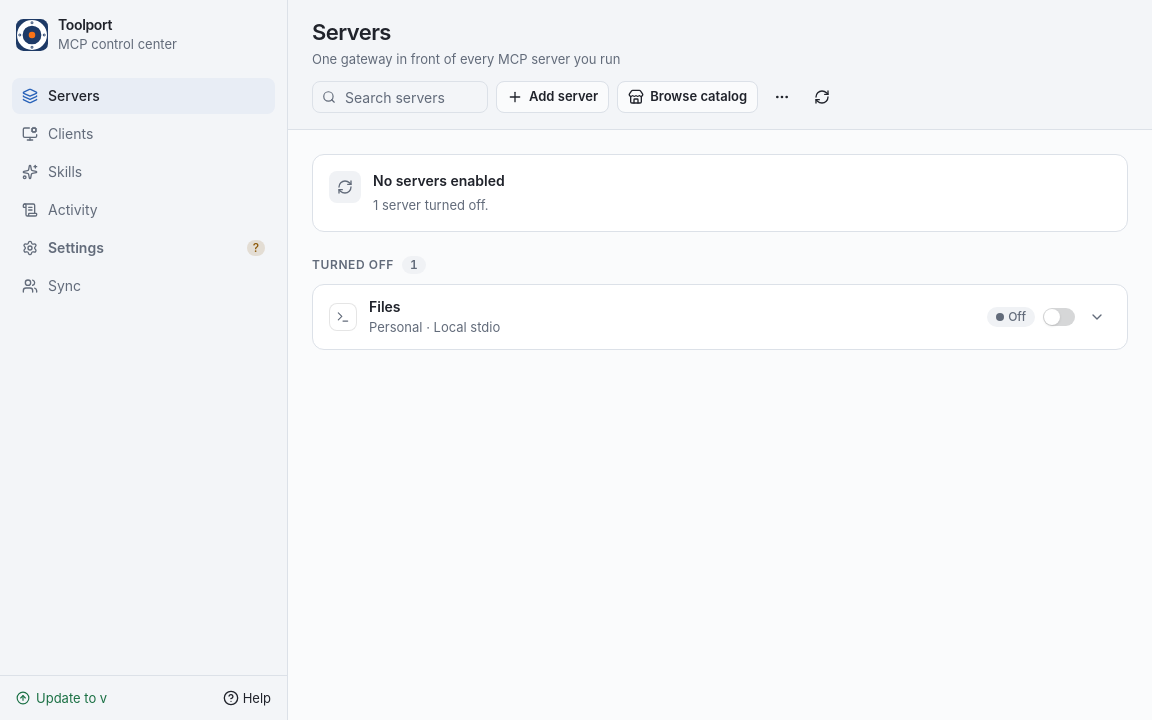
Test: pushed detail navigation › refreshes a selected server and gives a safe missing state after removal
Click the button named "Show Files details" at (1097, 317), box x1=1083 y1=303 x2=1111 y2=331
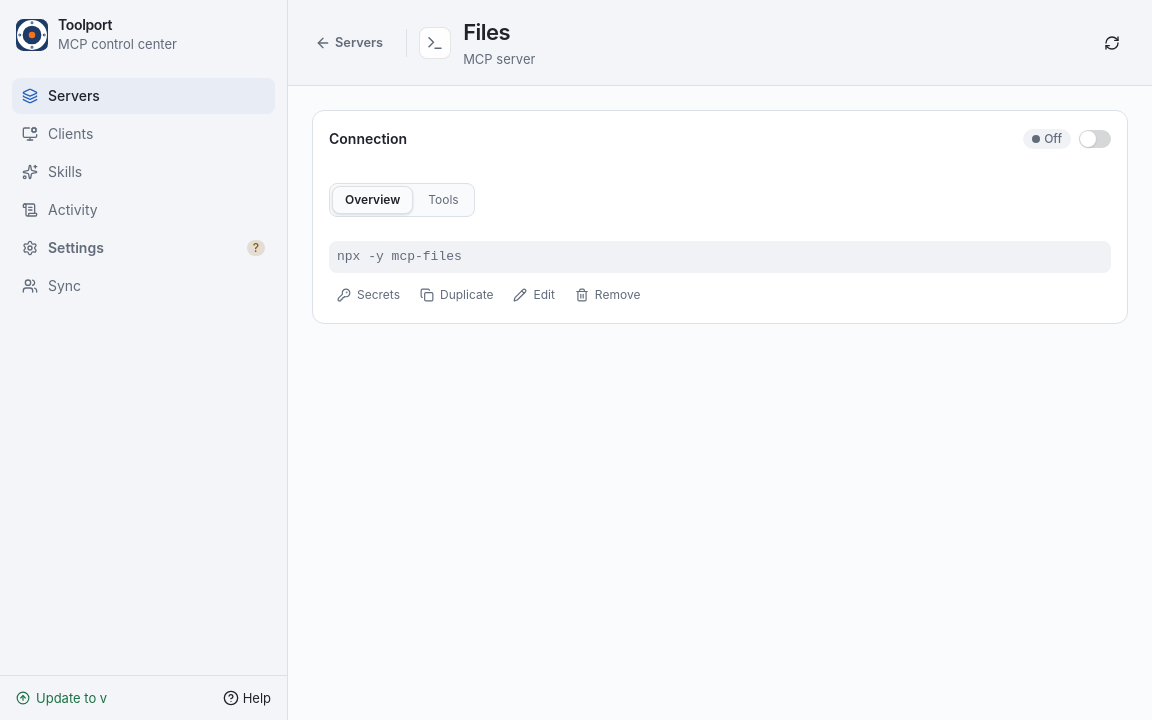
Click the button named "Refresh" at (1112, 42), box x1=1096 y1=26 x2=1128 y2=58
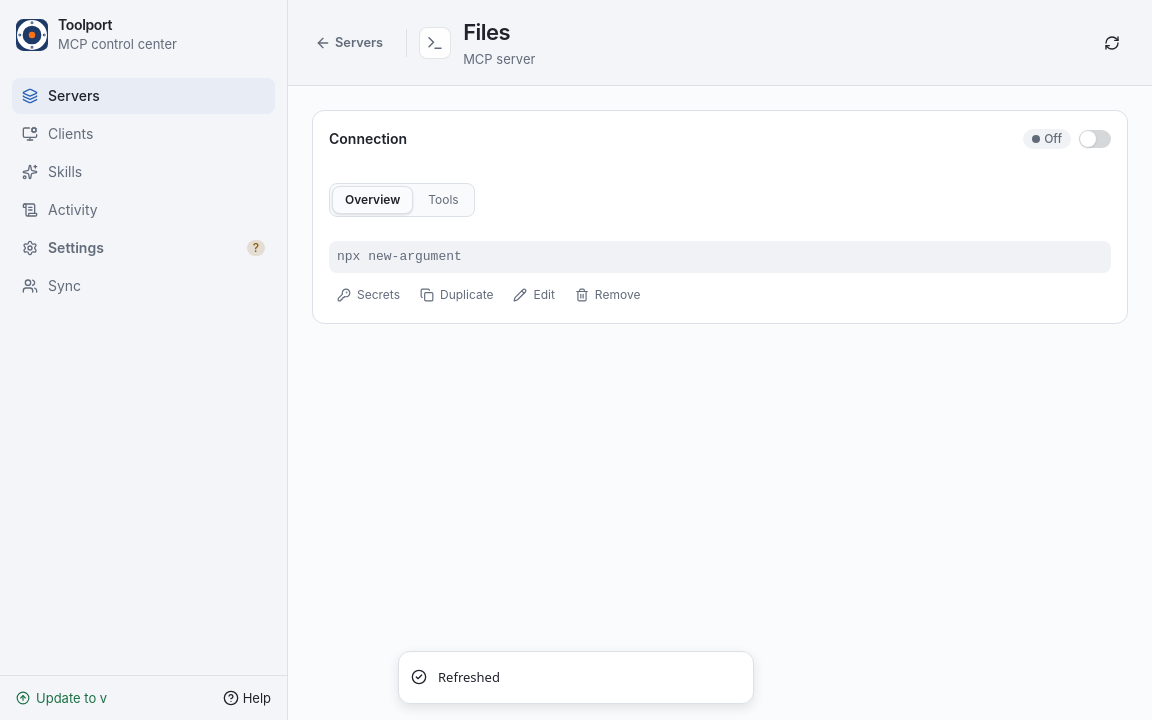
Expected: the text "npx new-argument" is shown, x1=329 y1=241 x2=1111 y2=273
Click the button named "Refresh" at (1112, 42), box x1=1096 y1=26 x2=1128 y2=58
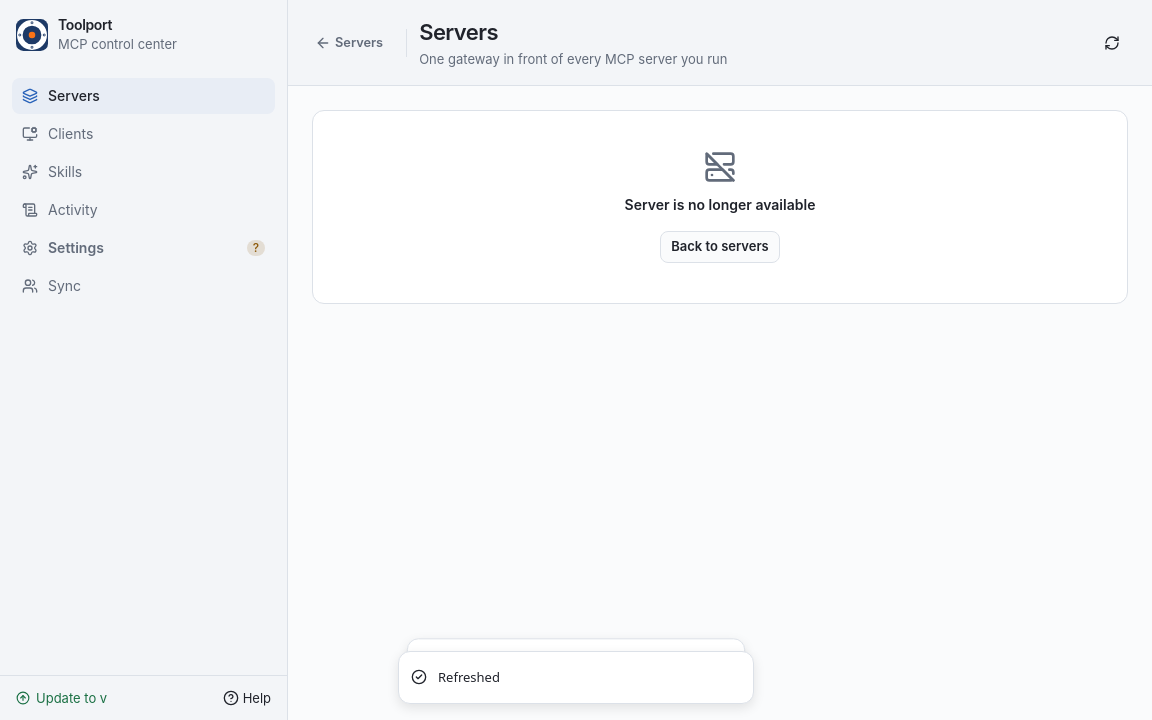
Expected: the text "Server is no longer available" is shown, x1=625 y1=195 x2=816 y2=215
Expected: the button "Edit" is gone
Expected: the number of buttons named "Back to servers" is 2, x1=304 y1=28 x2=394 y2=56; x1=660 y1=231 x2=780 y2=263
